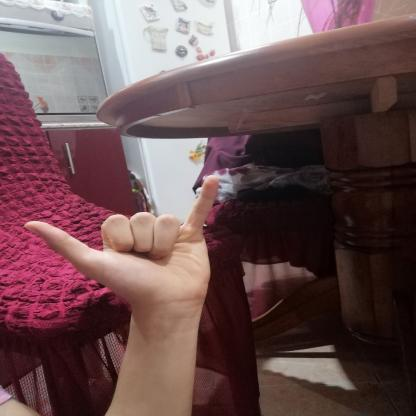YA: (8, 165, 240, 323)
